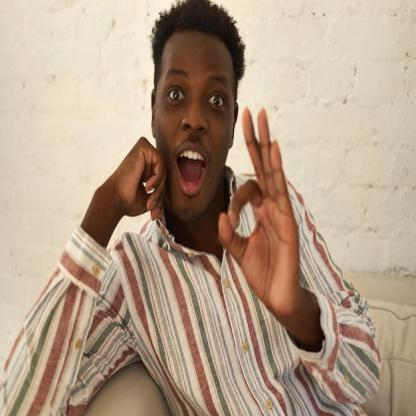ok: (216, 107, 300, 322)
